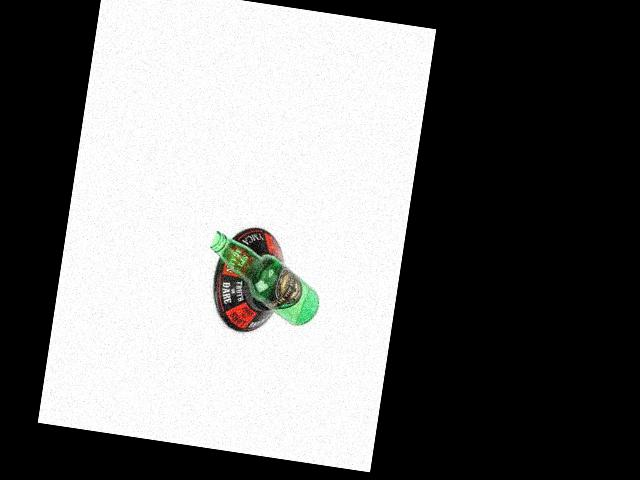beer: (200, 231, 326, 329)
